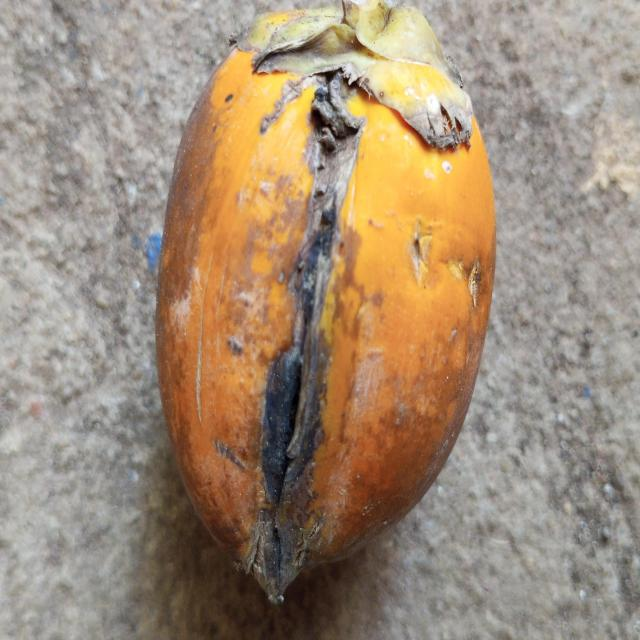damaged: (156, 0, 496, 603)
